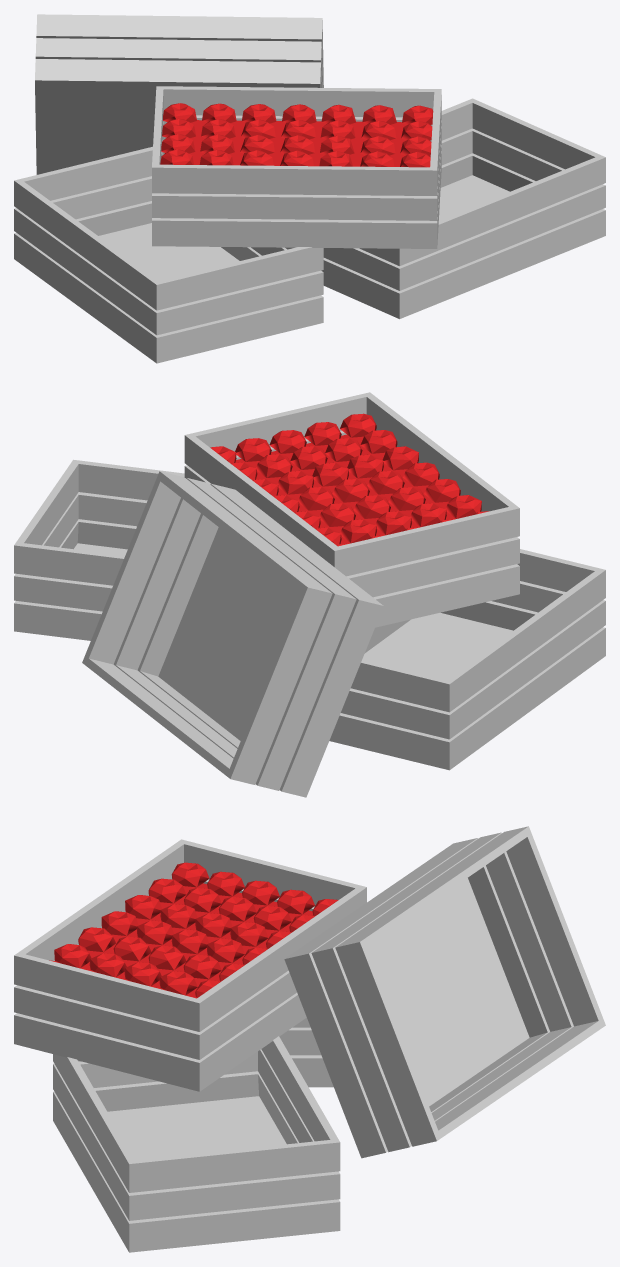
The model's file is Pila de cajones 1.fbx.
The picture shows the model from 3 angles, top to bottom: view 1: azimuth 30°, elevation 25°; view 2: azimuth 150°, elevation 25°; view 3: azimuth 270°, elevation 25°; orthographic projection. The views are drawn at different scales.
Parts seen in each view (by area): view 1: Cube.022; view 2: Cube.022; view 3: Cube.022.
Boxes of the visible parts, <box> form: Cube.022: <box>14,14,605,363</box>; Cube.022: <box>14,392,605,797</box>; Cube.022: <box>14,826,605,1252</box>.
Size of the model in its own units: 107 by 41.78 by 104.
